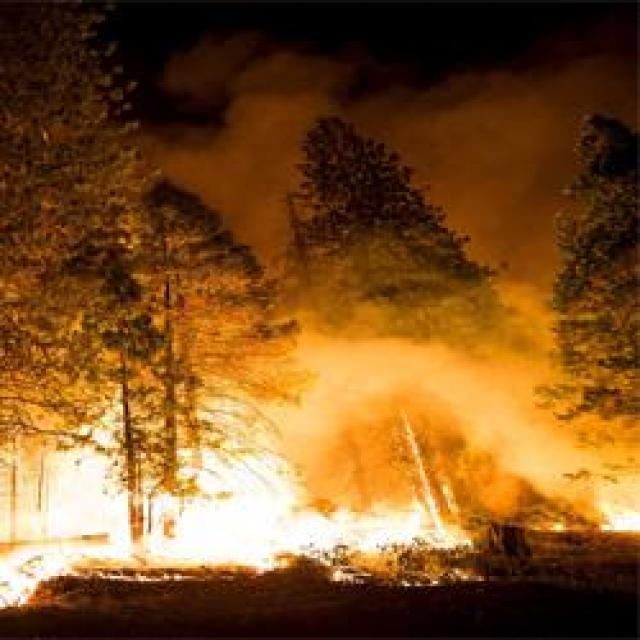fire: (185, 509, 258, 569), (247, 512, 328, 548), (70, 485, 110, 534), (380, 522, 420, 550)
smoke: (258, 326, 433, 515), (383, 305, 557, 490), (425, 91, 569, 198), (172, 40, 313, 131)
